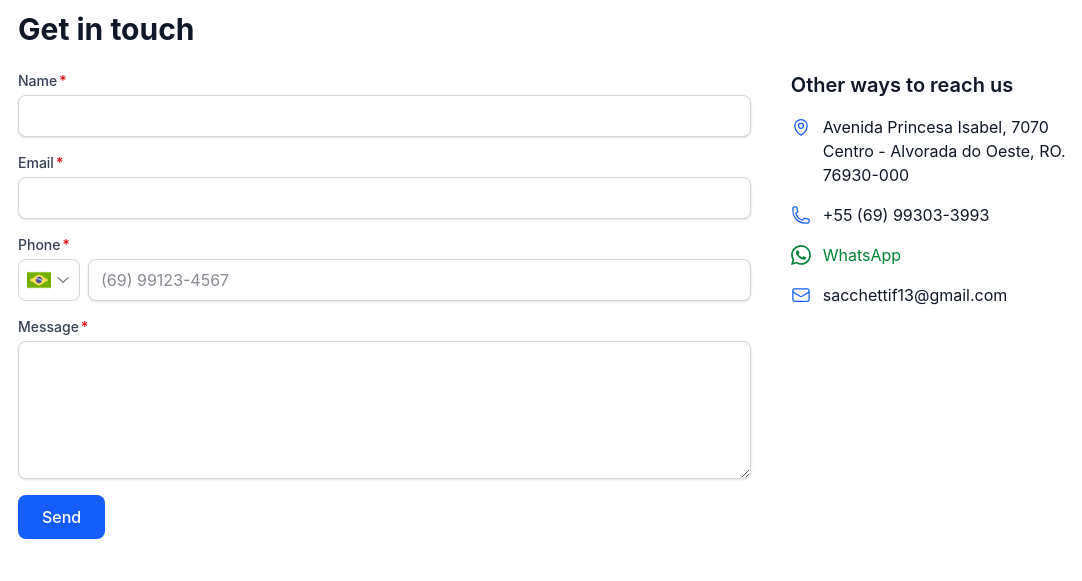
it: ContactPage › rejects an invalid phone number client-side using the library's own validity check
Type "Jane Doe" into the field labelled "Name*" at (384, 116), box [18, 95, 751, 137]
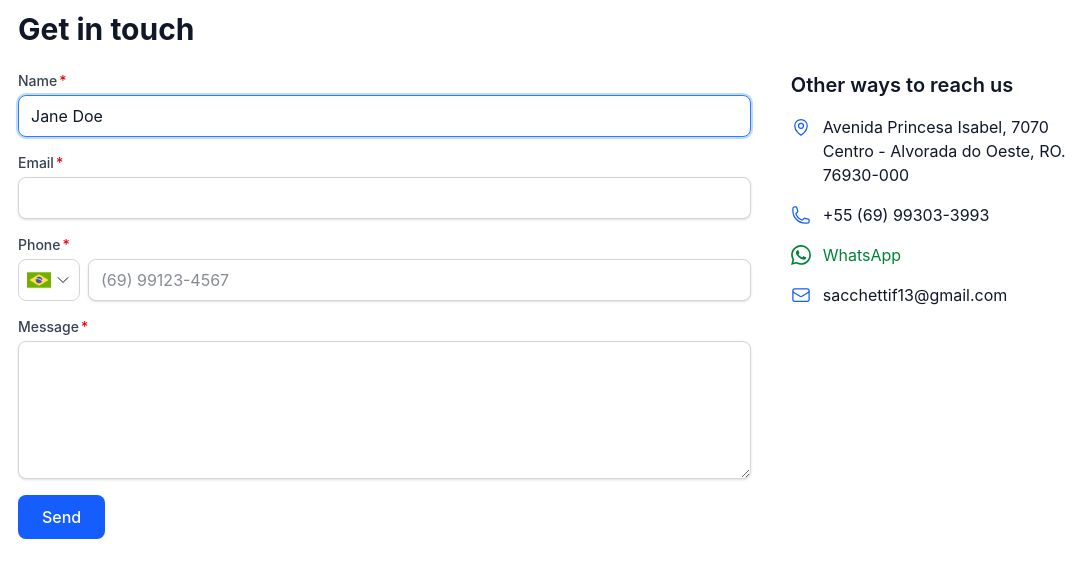
Type "jane@example.com" into the field labelled "Email*" at (384, 198), box [18, 177, 751, 219]
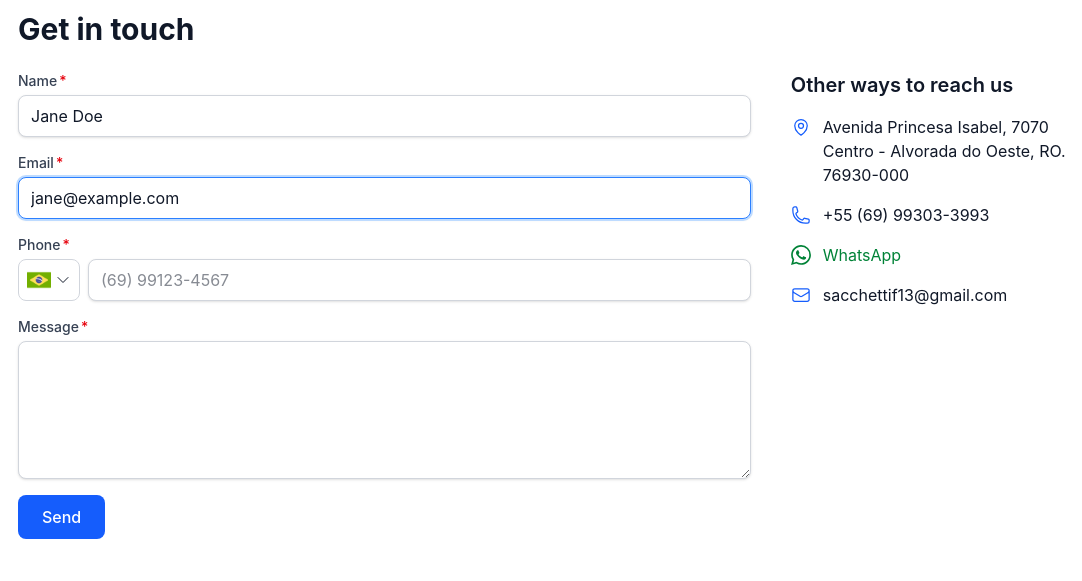
Type "Hello, I would like more information." into the text box labelled "Message*" at (384, 410), box [18, 341, 751, 479]
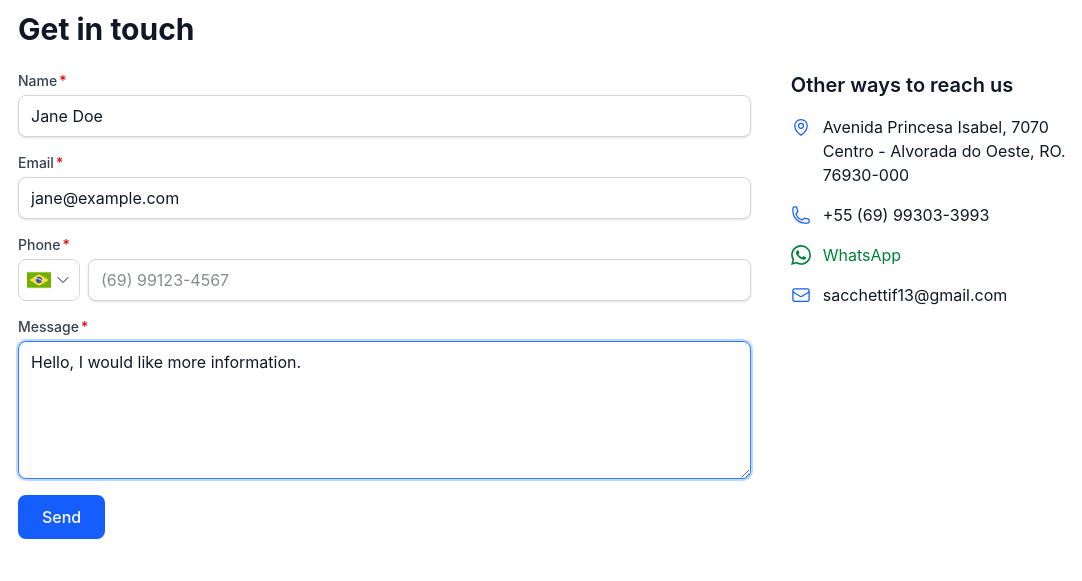
Type "123" into the field labelled "Phone*" at (419, 280), box [88, 259, 751, 301]
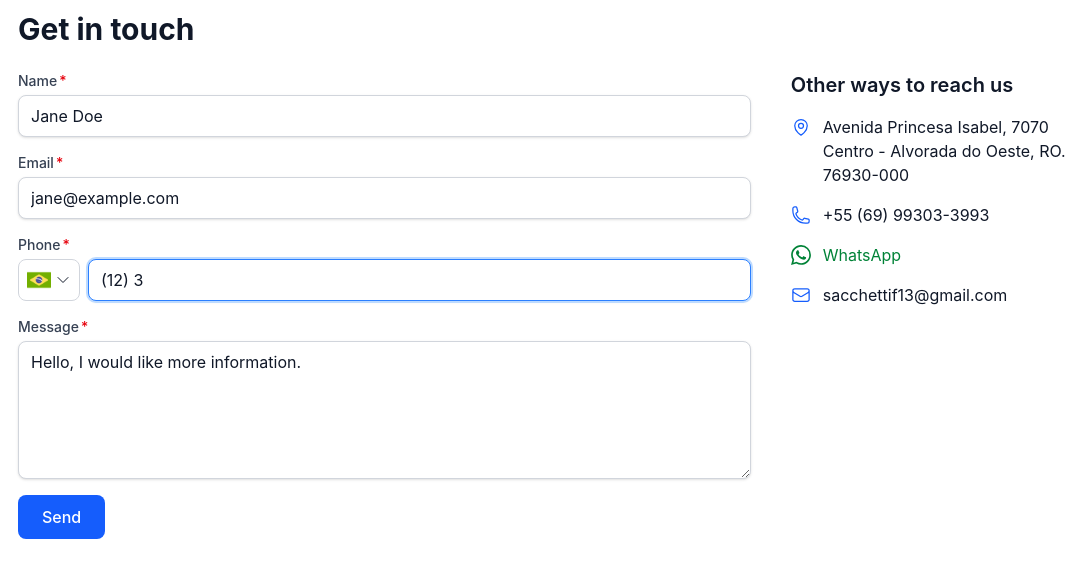
Click the button "Send" at (62, 517), box [18, 495, 105, 539]
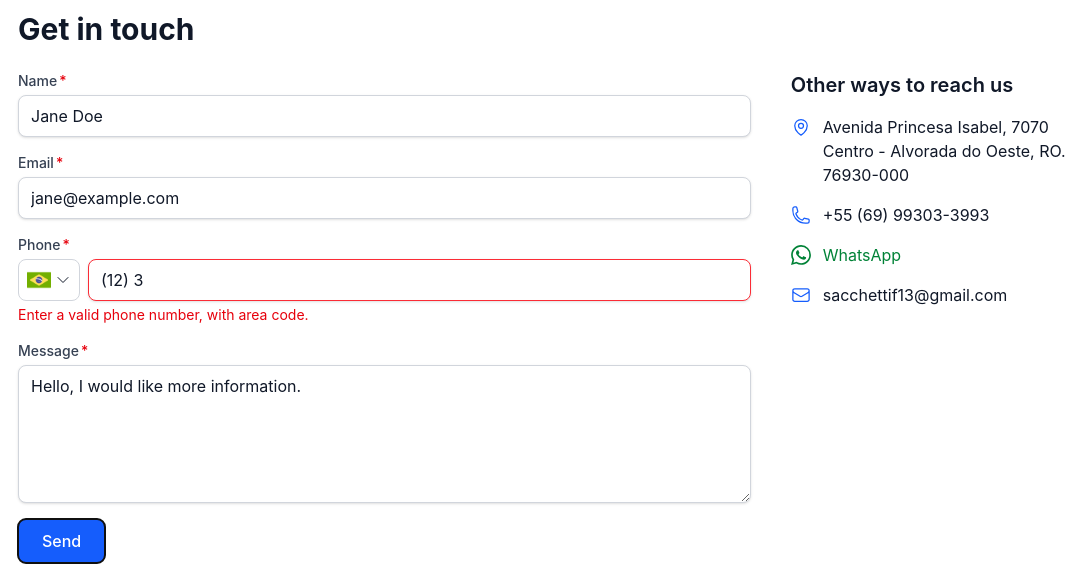
Check: the text "Enter a valid phone number, with area code." is shown, box [18, 306, 309, 323]
